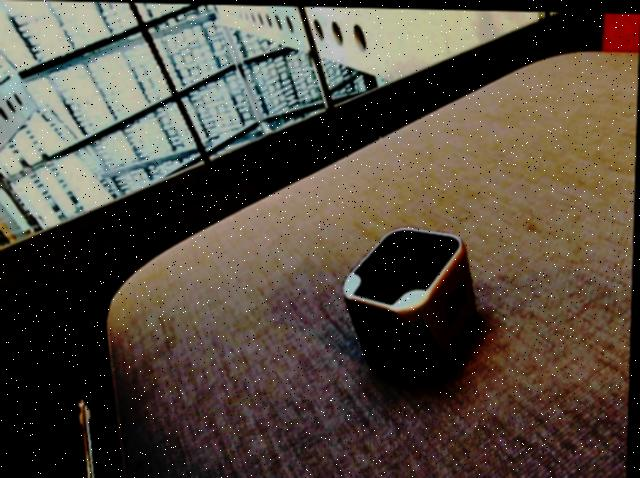adapter: (342, 224, 480, 381)
